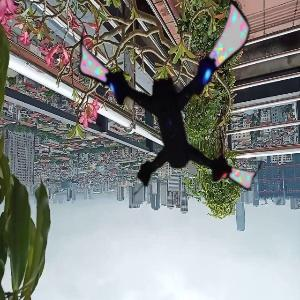drone: (68, 2, 266, 200)
